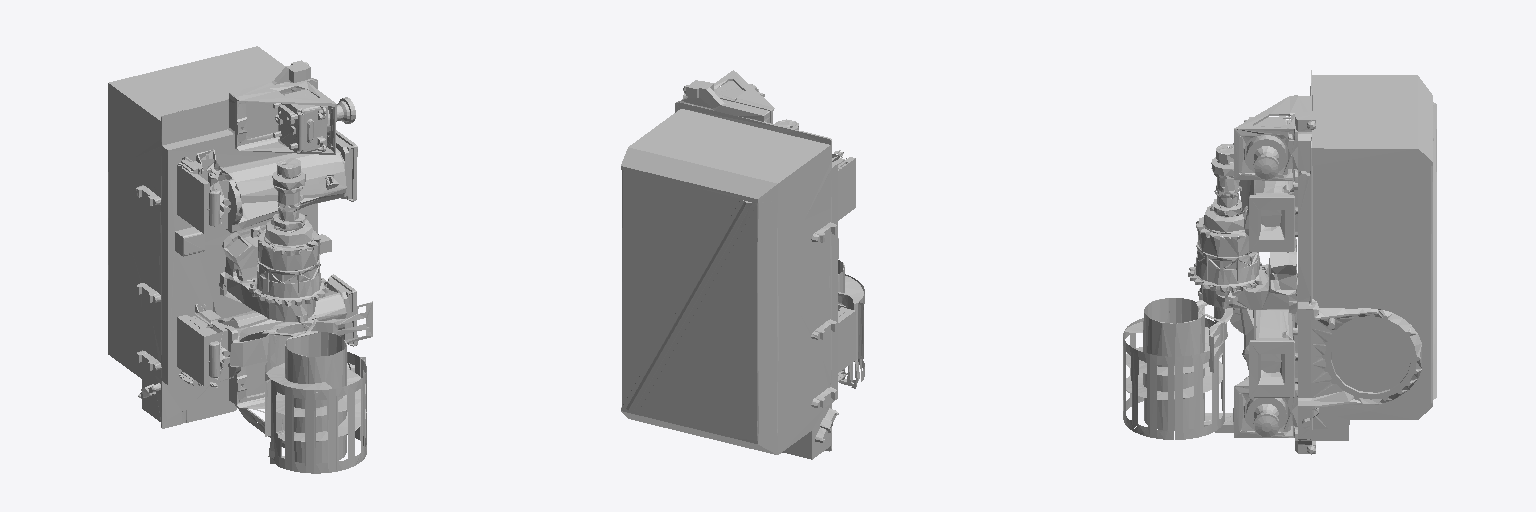
The model's file is RSM_Head.obj.
3 renders of one model, left to right at view 1: azimuth 30°, elevation 25°; view 2: azimuth 150°, elevation 25°; view 3: azimuth 270°, elevation 25°, orthographic.
Parts seen in each view (by area): view 1: RSM_Head.obj; view 2: RSM_Head.obj; view 3: RSM_Head.obj.
Boxes of the visible parts, x1,y1,x2,y2 form: RSM_Head.obj: [108, 46, 372, 473]; RSM_Head.obj: [621, 70, 864, 459]; RSM_Head.obj: [1123, 70, 1436, 454].
Size of the model in its own units: 0.3037 by 0.5494 by 0.468.